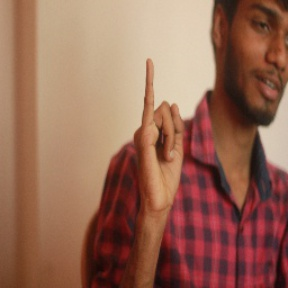I: (128, 58, 193, 211)
